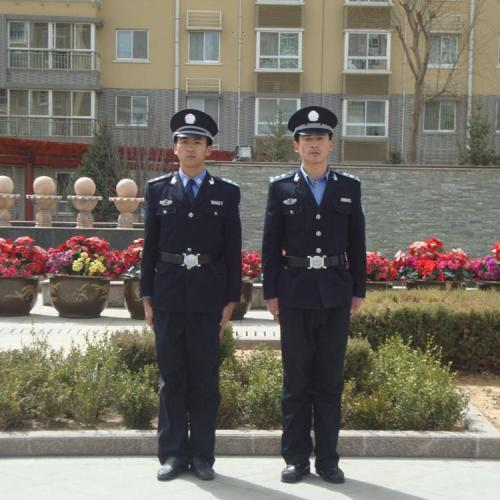up: (255, 104, 371, 486), (132, 108, 246, 480)
